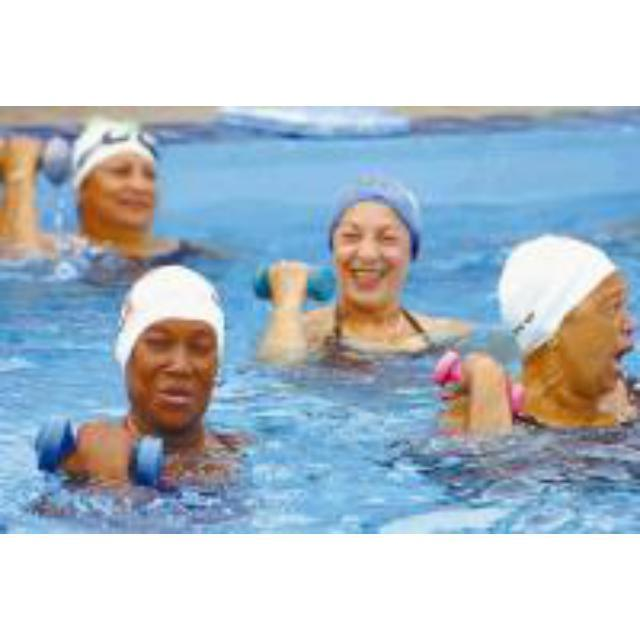human: (45, 259, 237, 483), (453, 231, 638, 442), (262, 168, 460, 356), (1, 120, 202, 277)
